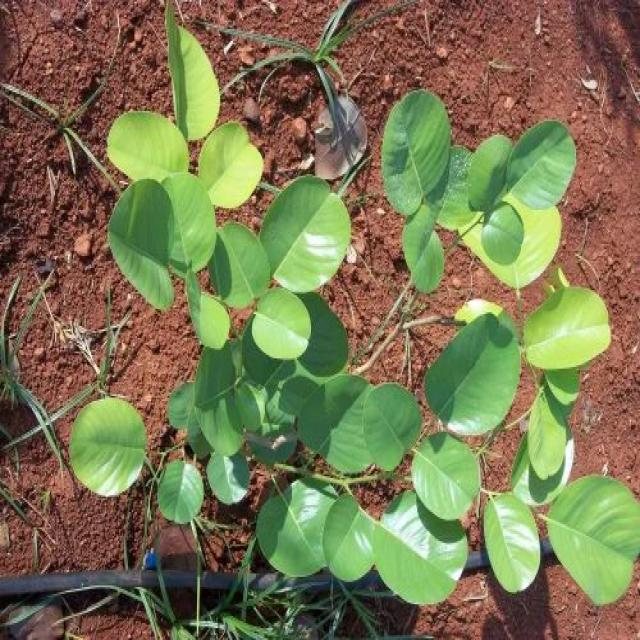Medicinal-Sandalwood: (38, 9, 640, 604)
